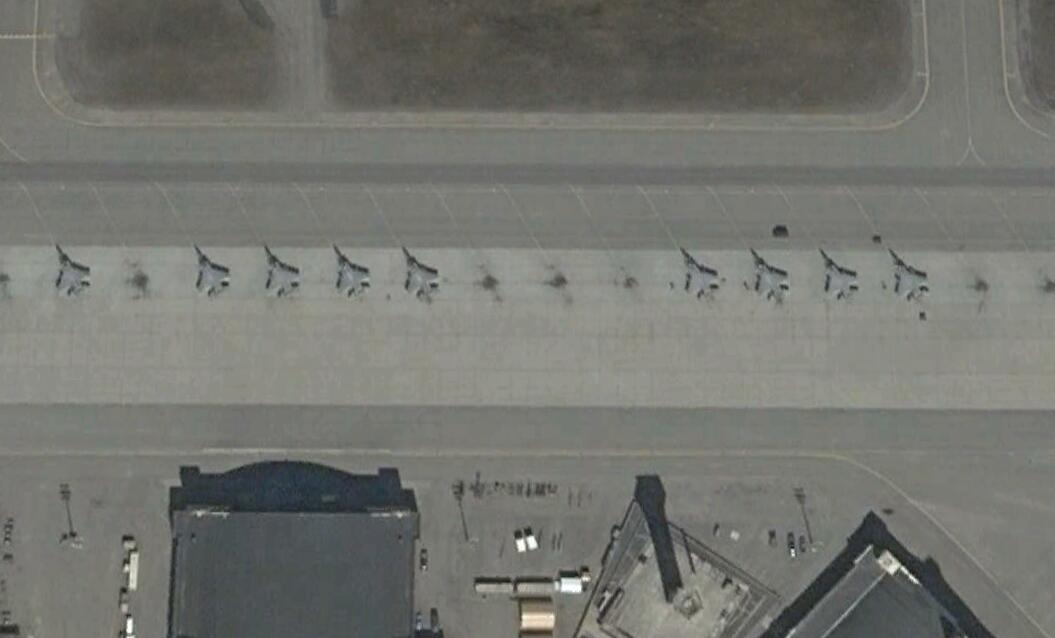A13: (749, 246, 793, 304), (260, 242, 304, 300), (677, 245, 722, 301), (399, 245, 442, 302), (888, 249, 932, 304), (51, 242, 95, 297), (331, 242, 373, 299), (817, 249, 862, 301), (194, 242, 234, 299)
